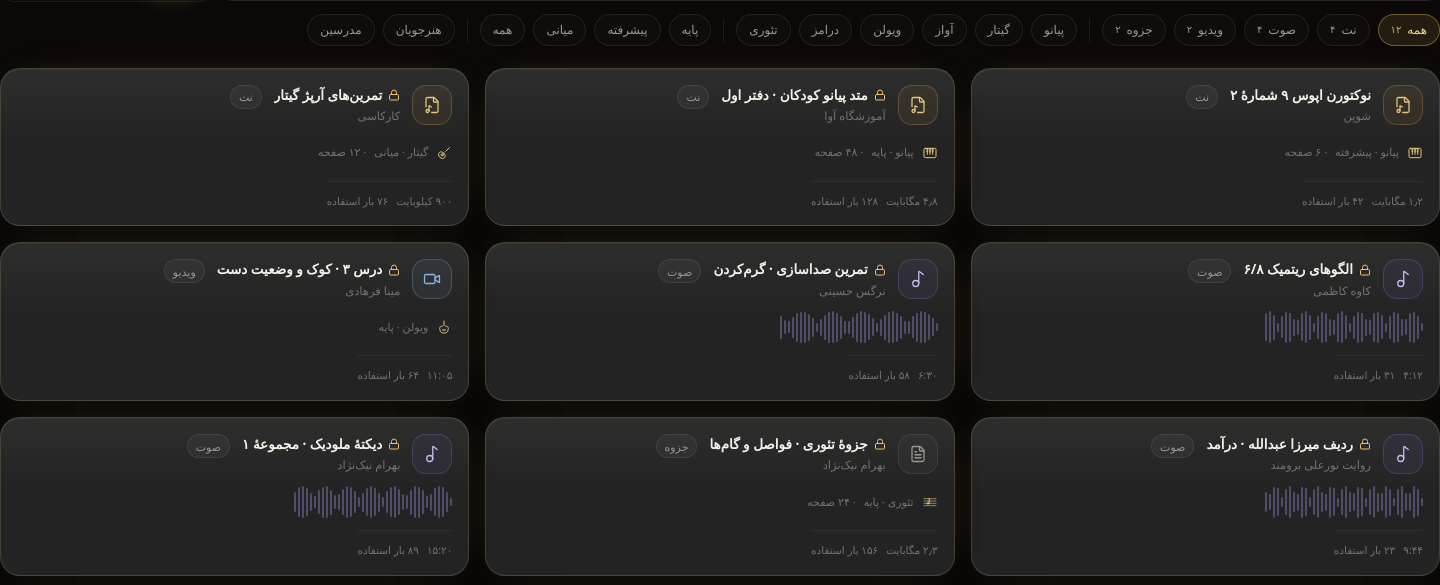
Test: downloading a stored file › does not animate a player for audio whose file is absent
The width and height of the screenshot is (1440, 585).
(page scrolled)
Click the button "الگوهای ریتمیک ۶/۸": (1403, 279) [971,242,1439,401]
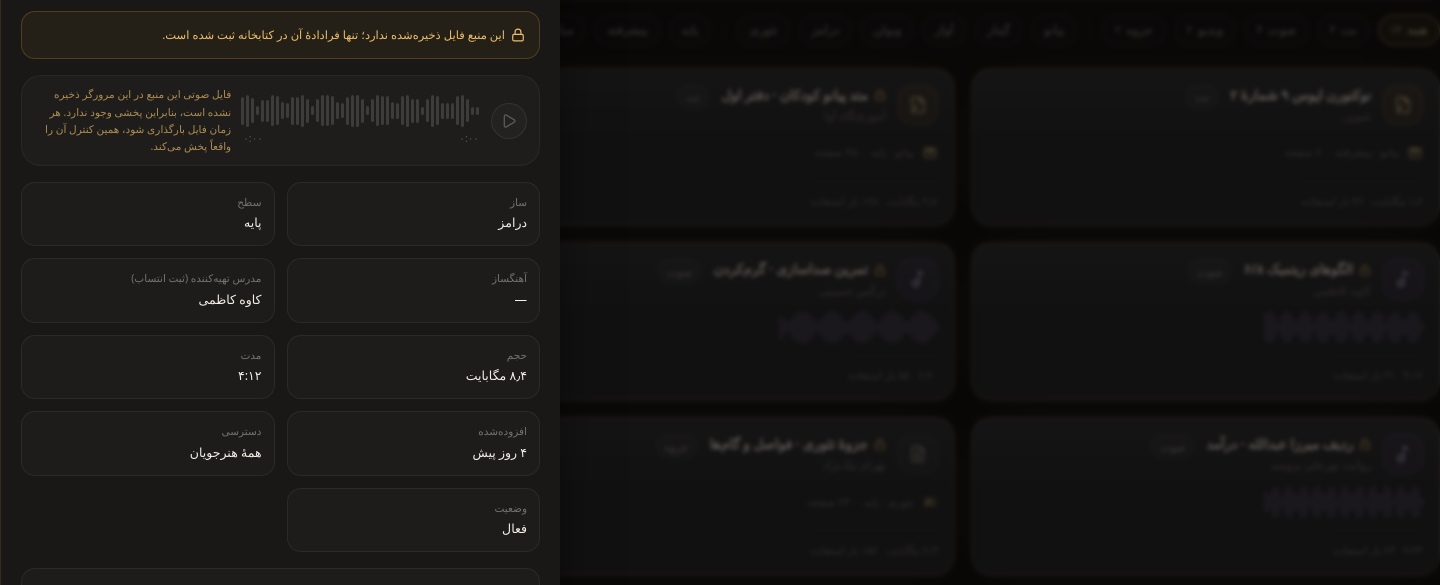
Result: the text "فایل صوتی این منبع در این مرورگر ذخیره نشده است" is shown at [45,87,231,153]
